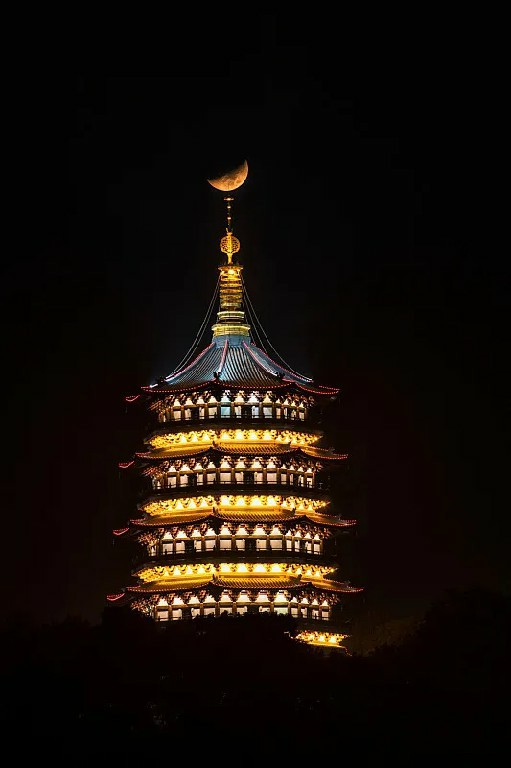Leifeng: (107, 183, 365, 655)
